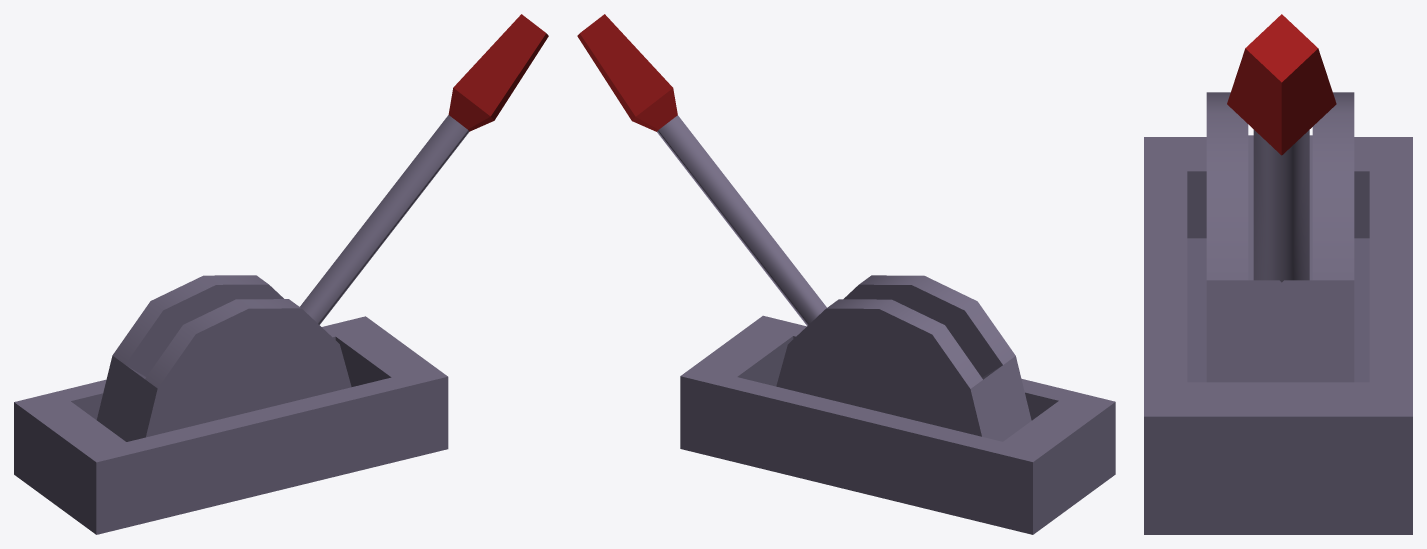
File: Lever.FBX
The picture shows the model from 3 angles, left to right: view 1: azimuth 30°, elevation 25°; view 2: azimuth 150°, elevation 25°; view 3: azimuth 270°, elevation 25°; orthographic projection. The views are drawn at different scales.
Visible parts, largest first — view 1: LeverStand, Lever; view 2: LeverStand, Lever; view 3: LeverStand, Lever.
Part boxes in pixels (x1=…): LeverStand: x1=14, y1=275, x2=448, y2=534; Lever: x1=300, y1=14, x2=548, y2=324; LeverStand: x1=680, y1=275, x2=1115, y2=534; Lever: x1=577, y1=14, x2=826, y2=325; LeverStand: x1=1144, y1=92, x2=1412, y2=534; Lever: x1=1227, y1=14, x2=1336, y2=282.
Bounding box in the file's own units: 0.8691 × 0.6313 × 0.2509.
